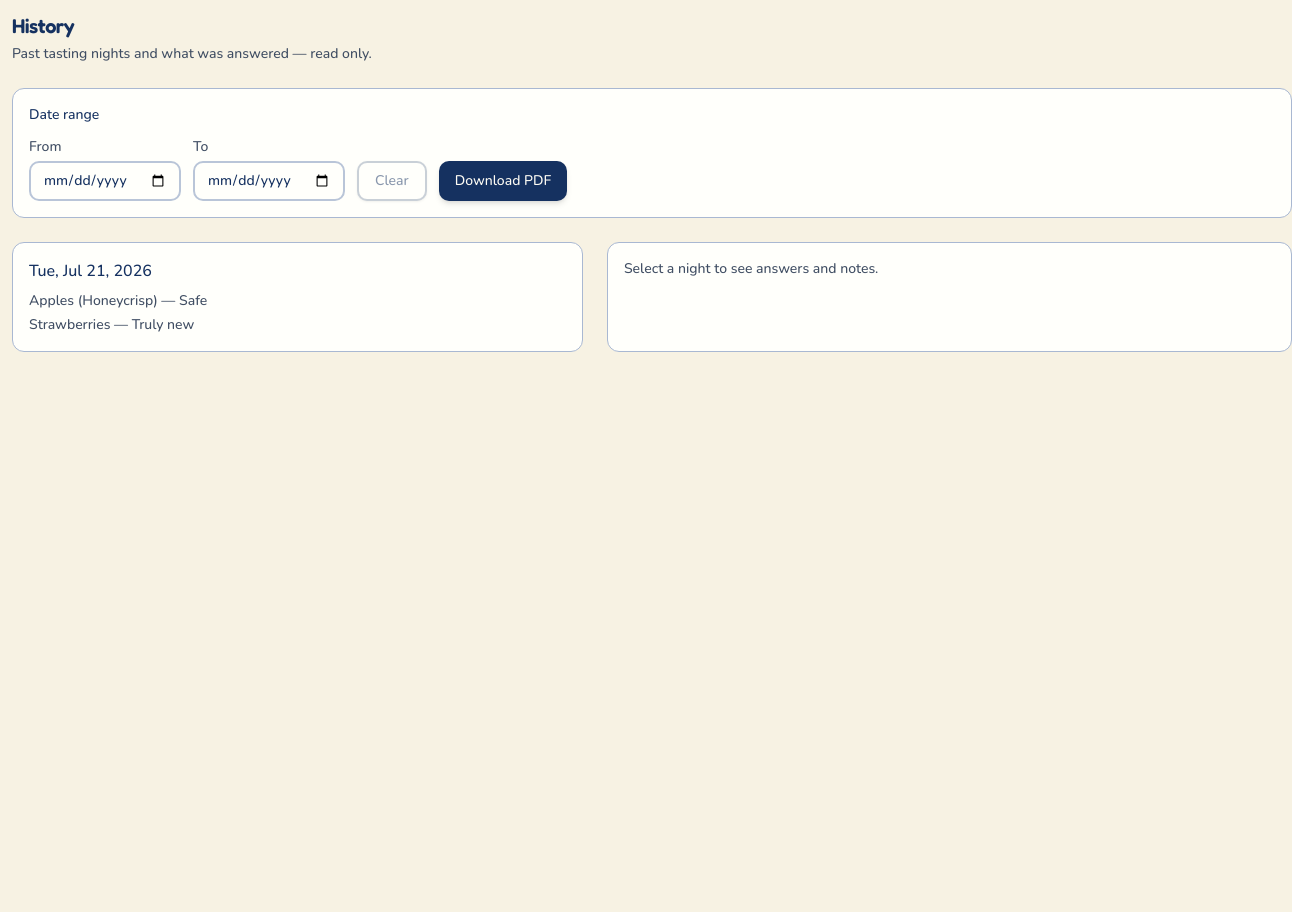
Test: HistoryPage › lists completed sessions and shows read-only detail
Expected: the list item "Apples (Honeycrisp) — Safe" is shown, [29,291,207,310]
Expected: the text "Select a night to see answers and notes." is shown, [624,259,878,278]
What coordinates should you click on to do the following:
click the button "Honeycrisp"
I would click on:
 (90, 271)
Its box is [12,242,583,352].
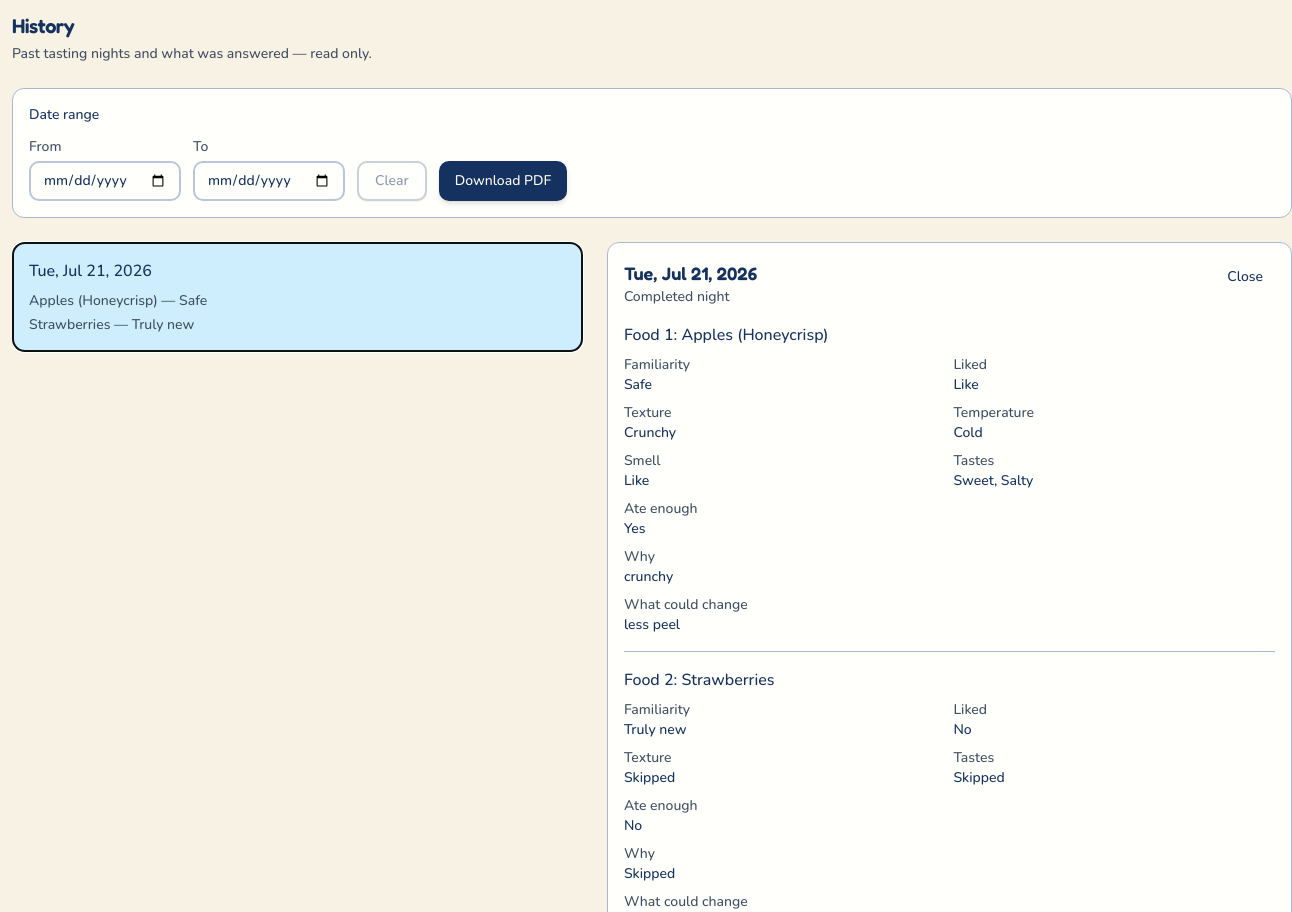
Result: the text "Safe" is shown at [624,375,652,394]
Result: the text "Sweet, Salty" is shown at [953,471,1033,490]
Result: the text "Like" is shown 2 times at [953,375,979,394]; [624,471,649,490]
